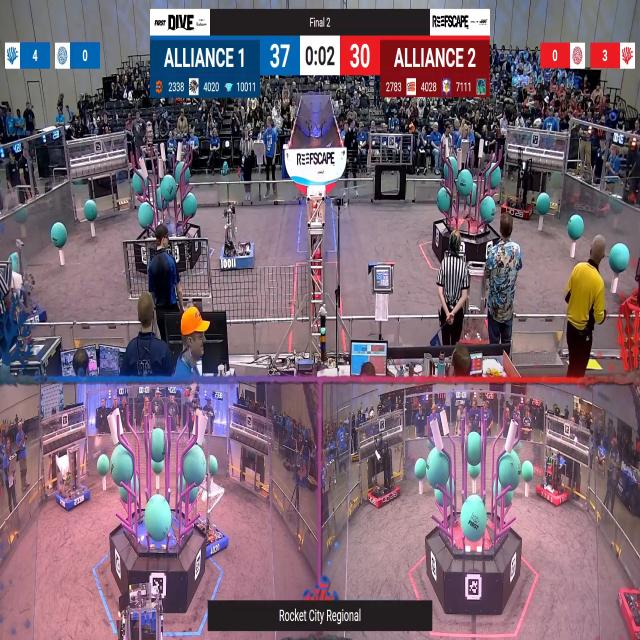scoreboard: (150, 35, 490, 98)
